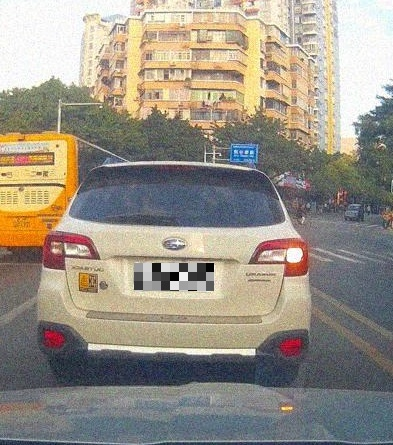L_light: (42, 231, 100, 270)
R_light: (248, 237, 308, 277)
T_light: (159, 165, 197, 171)
day-right: (36, 161, 310, 386)
plate_1: (134, 263, 214, 291)
